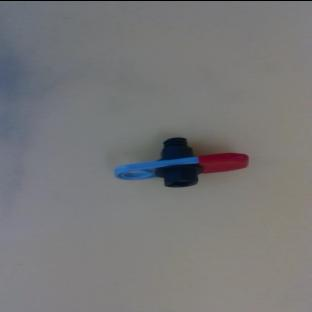part_1_good: (114, 132, 251, 193)
